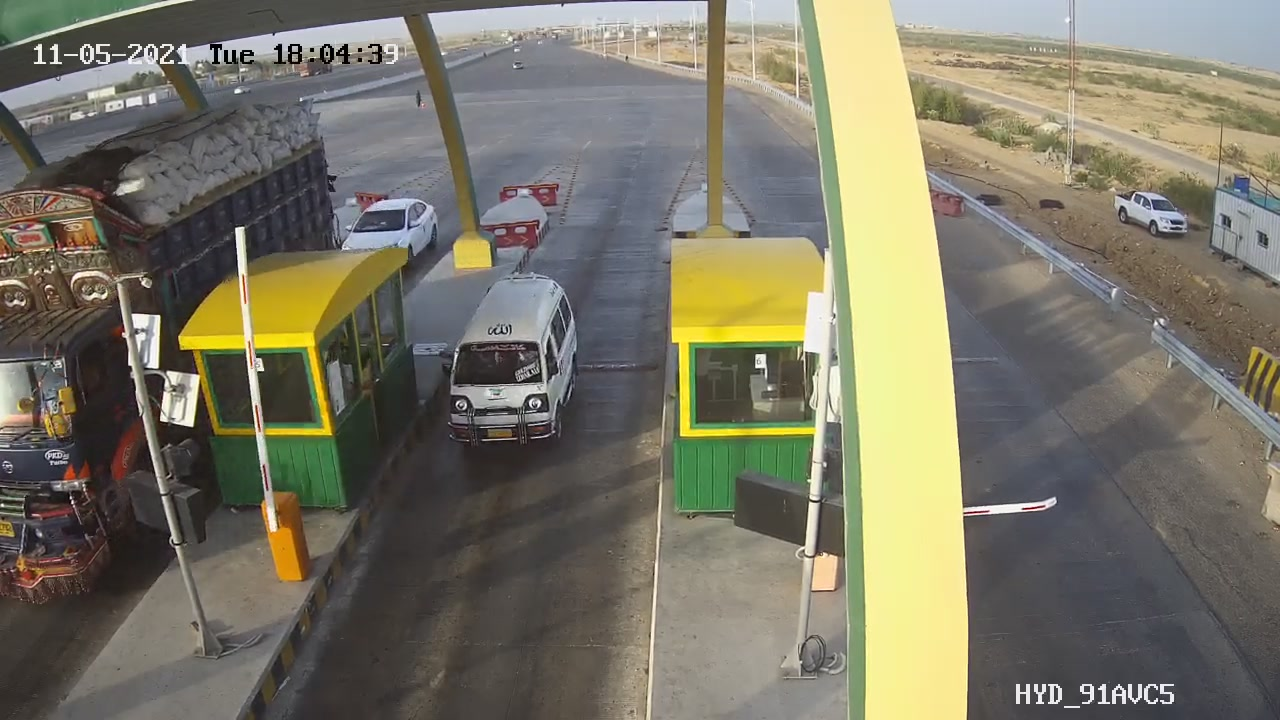F1: (407, 259, 603, 478)
